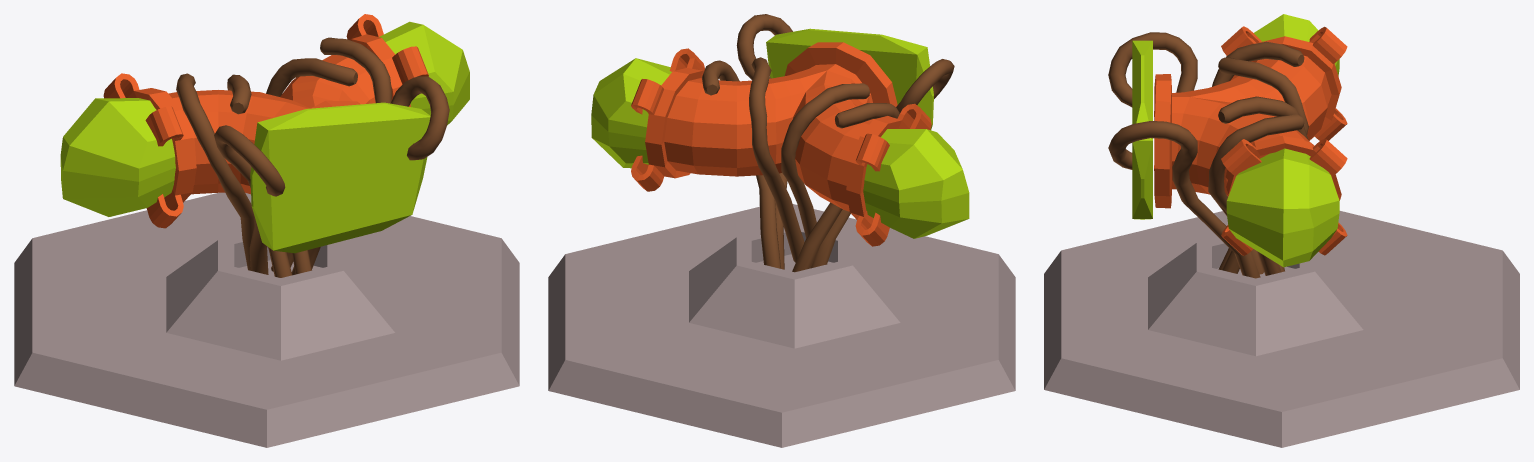
The model's file is prisma.fbx.
3 views of the same model, side by side, from view 1: azimuth 30°, elevation 25°; view 2: azimuth 150°, elevation 25°; view 3: azimuth 270°, elevation 25° (orthographic). The views are drawn at different scales.
Parts seen in each view (by area): view 1: Base, Cristal_IN, Torus001, grab001, Cristal_OUT_2, Cristal_OUT_1; view 2: Base, Torus001, grab001, Cristal_OUT_2, Cristal_IN, Cristal_OUT_1; view 3: Base, Torus001, grab001, Cristal_OUT_1, Cristal_IN, Cristal_OUT_2.
Boxes of the visible parts, x1,y1,x2,y2 form: Base: (14,192,519,447); Cristal_IN: (250,102,430,253); Torus001: (103,14,428,228); grab001: (176,37,449,277); Cristal_OUT_2: (60,98,175,216); Cristal_OUT_1: (379,21,469,125); Base: (548,204,1015,447); Torus001: (631,42,931,246); grab001: (702,14,954,272); Cristal_OUT_2: (863,129,969,238); Cristal_IN: (766,28,933,130); Cristal_OUT_1: (591,58,671,168); Base: (1044,211,1519,447); Torus001: (1154,26,1347,255); grab001: (1108,32,1308,278); Cristal_OUT_1: (1226,148,1339,267); Cristal_IN: (1132,40,1152,219); Cristal_OUT_2: (1254,14,1339,76).
Size of the model in its own units: 87.69 by 45.99 by 75.95.
